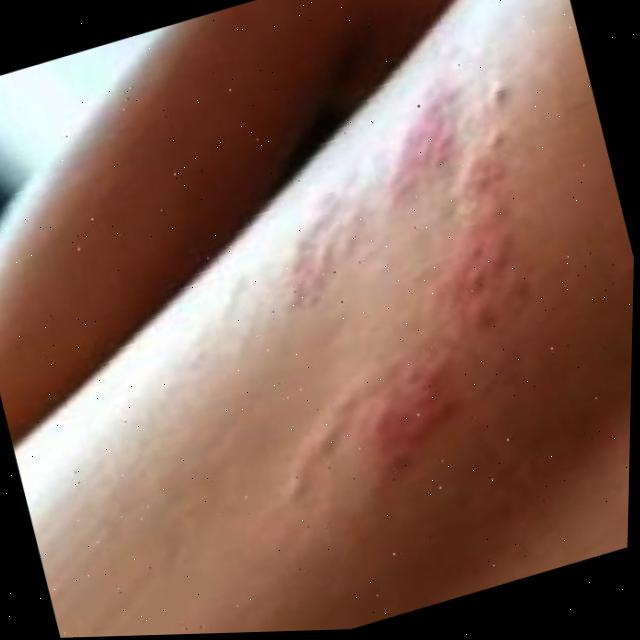Shingles: (245, 71, 579, 464)
